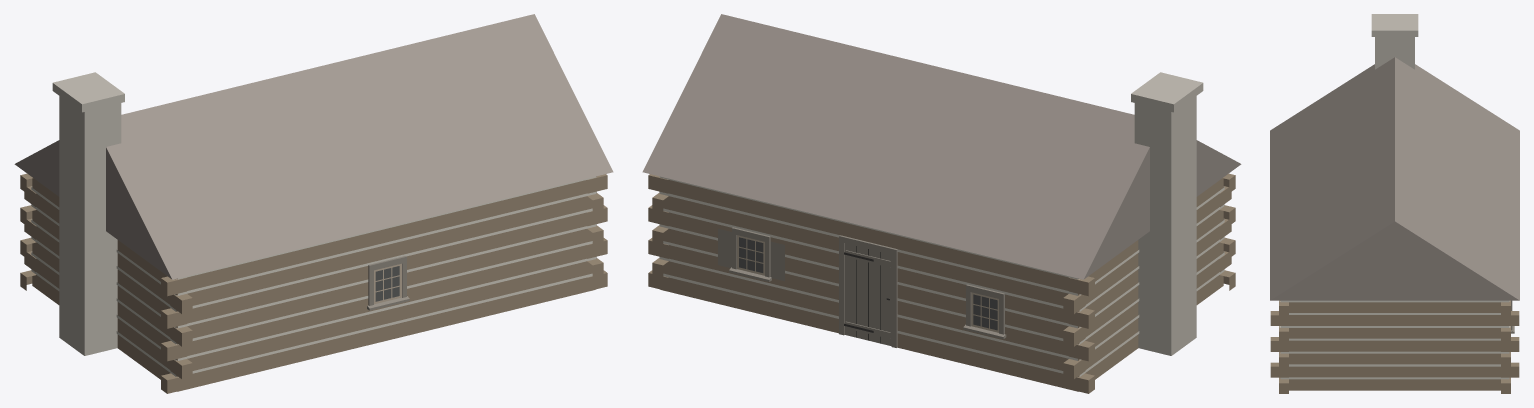
File: madore_beaubien_house__log_1831.glb
3 views of the same model, side by side, from view 1: azimuth 30°, elevation 25°; view 2: azimuth 150°, elevation 25°; view 3: azimuth 270°, elevation 25° (orthographic). The views are drawn at different scales.
Parts seen in each view (by area): view 1: madore_beaubien_house__log_1831; view 2: madore_beaubien_house__log_1831; view 3: madore_beaubien_house__log_1831.
Boxes of the visible parts, x1,y1,x2,y2 form: madore_beaubien_house__log_1831: [14, 14, 613, 393]; madore_beaubien_house__log_1831: [642, 14, 1241, 393]; madore_beaubien_house__log_1831: [1270, 14, 1519, 393].
Bounding box in the file's own units: 10.21 × 5.32 × 5.99.
